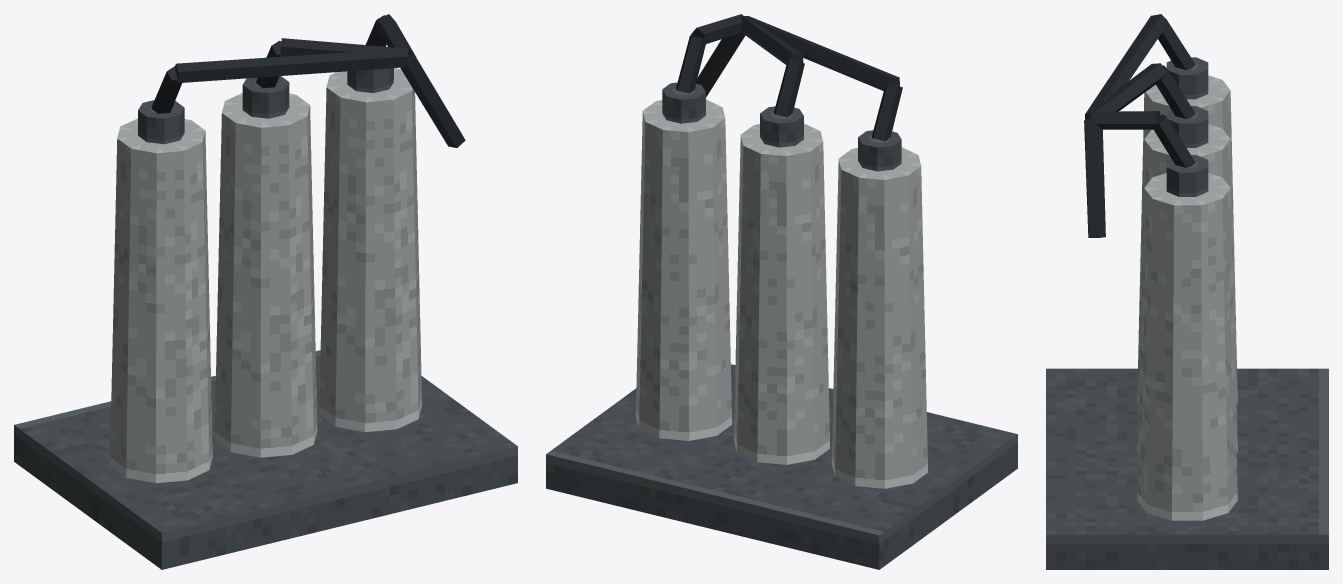
Rendered from f_capacitor.glb.
The picture shows the model from 3 angles, left to right: view 1: azimuth 30°, elevation 25°; view 2: azimuth 150°, elevation 25°; view 3: azimuth 270°, elevation 25°; orthographic projection. The views are drawn at different scales.
Visible parts, largest first — view 1: block_heavy-capacitor-can (×3), block_capacitor-bank-base, block_bus-lead-2 (×3), block_terminal-cap (×3), block_bus-lead-3, block_bus-lead-1; view 2: block_heavy-capacitor-can (×3), block_capacitor-bank-base, block_bus-lead-2 (×3), block_terminal-cap (×3), block_bus-lead-1 (×3), block_bus-lead-3; view 3: block_capacitor-bank-base, block_heavy-capacitor-can (×3), block_bus-lead-2 (×3), block_terminal-cap (×3), block_bus-lead-1 (×3), block_bus-lead-3.
Part boxes in pixels (left/top/right/bottom): block_heavy-capacitor-can (×3): left=110, top=68, right=421, bottom=483; block_capacitor-bank-base: left=14, top=350, right=517, bottom=569; block_bus-lead-2 (×3): left=175, top=14, right=415, bottom=83; block_terminal-cap (×3): left=138, top=68, right=393, bottom=144; block_bus-lead-3: left=400, top=51, right=465, bottom=147; block_bus-lead-1: left=151, top=66, right=181, bottom=113; block_heavy-capacitor-can (×3): left=636, top=99, right=927, bottom=488; block_capacitor-bank-base: left=546, top=364, right=1017, bottom=569; block_bus-lead-2 (×3): left=691, top=14, right=899, bottom=90; block_terminal-cap (×3): left=662, top=82, right=901, bottom=171; block_bus-lead-1 (×3): left=676, top=35, right=902, bottom=141; block_bus-lead-3: left=696, top=32, right=745, bottom=97; block_capacitor-bank-base: left=1046, top=368, right=1328, bottom=569; block_heavy-capacitor-can (×3): left=1137, top=75, right=1237, bottom=520; block_bus-lead-2 (×3): left=1085, top=14, right=1167, bottom=129; block_terminal-cap (×3): left=1166, top=57, right=1208, bottom=196; block_bus-lead-1 (×3): left=1153, top=16, right=1195, bottom=167; block_bus-lead-3: left=1084, top=119, right=1105, bottom=237.
Size of the model in its own units: 0.82 by 0.977 by 0.59.
Materials: 1 (1 with a texture image).
